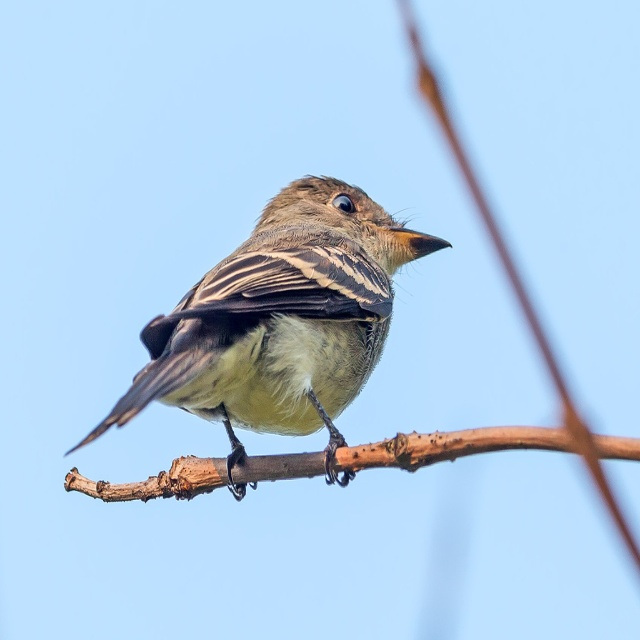Sparrow: (70, 161, 448, 509)
